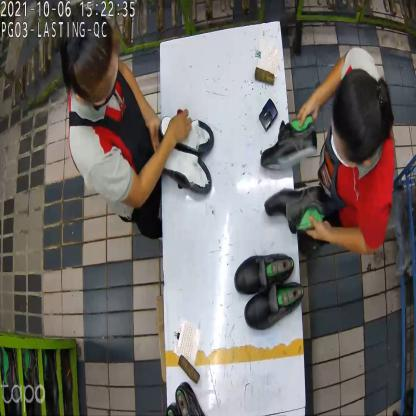shoes: (262, 116, 330, 240), (240, 254, 302, 333), (159, 118, 217, 196)
stamp: (171, 106, 190, 142), (259, 99, 277, 132)
